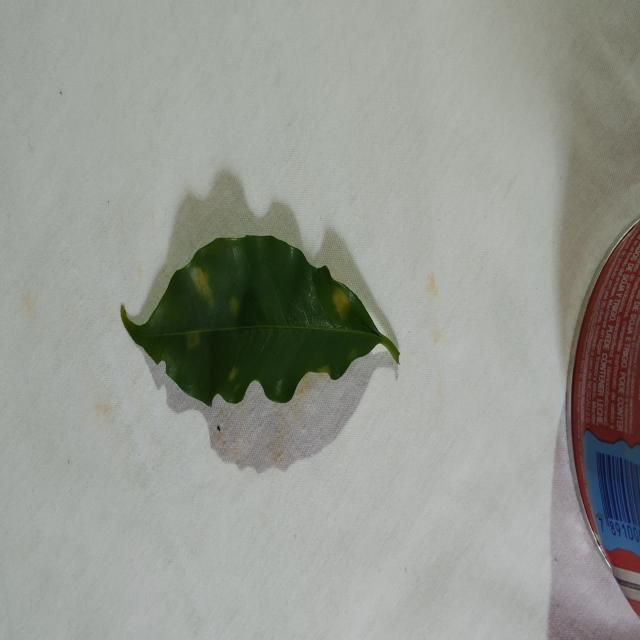Enfermedad-Roya: (119, 233, 401, 408)
